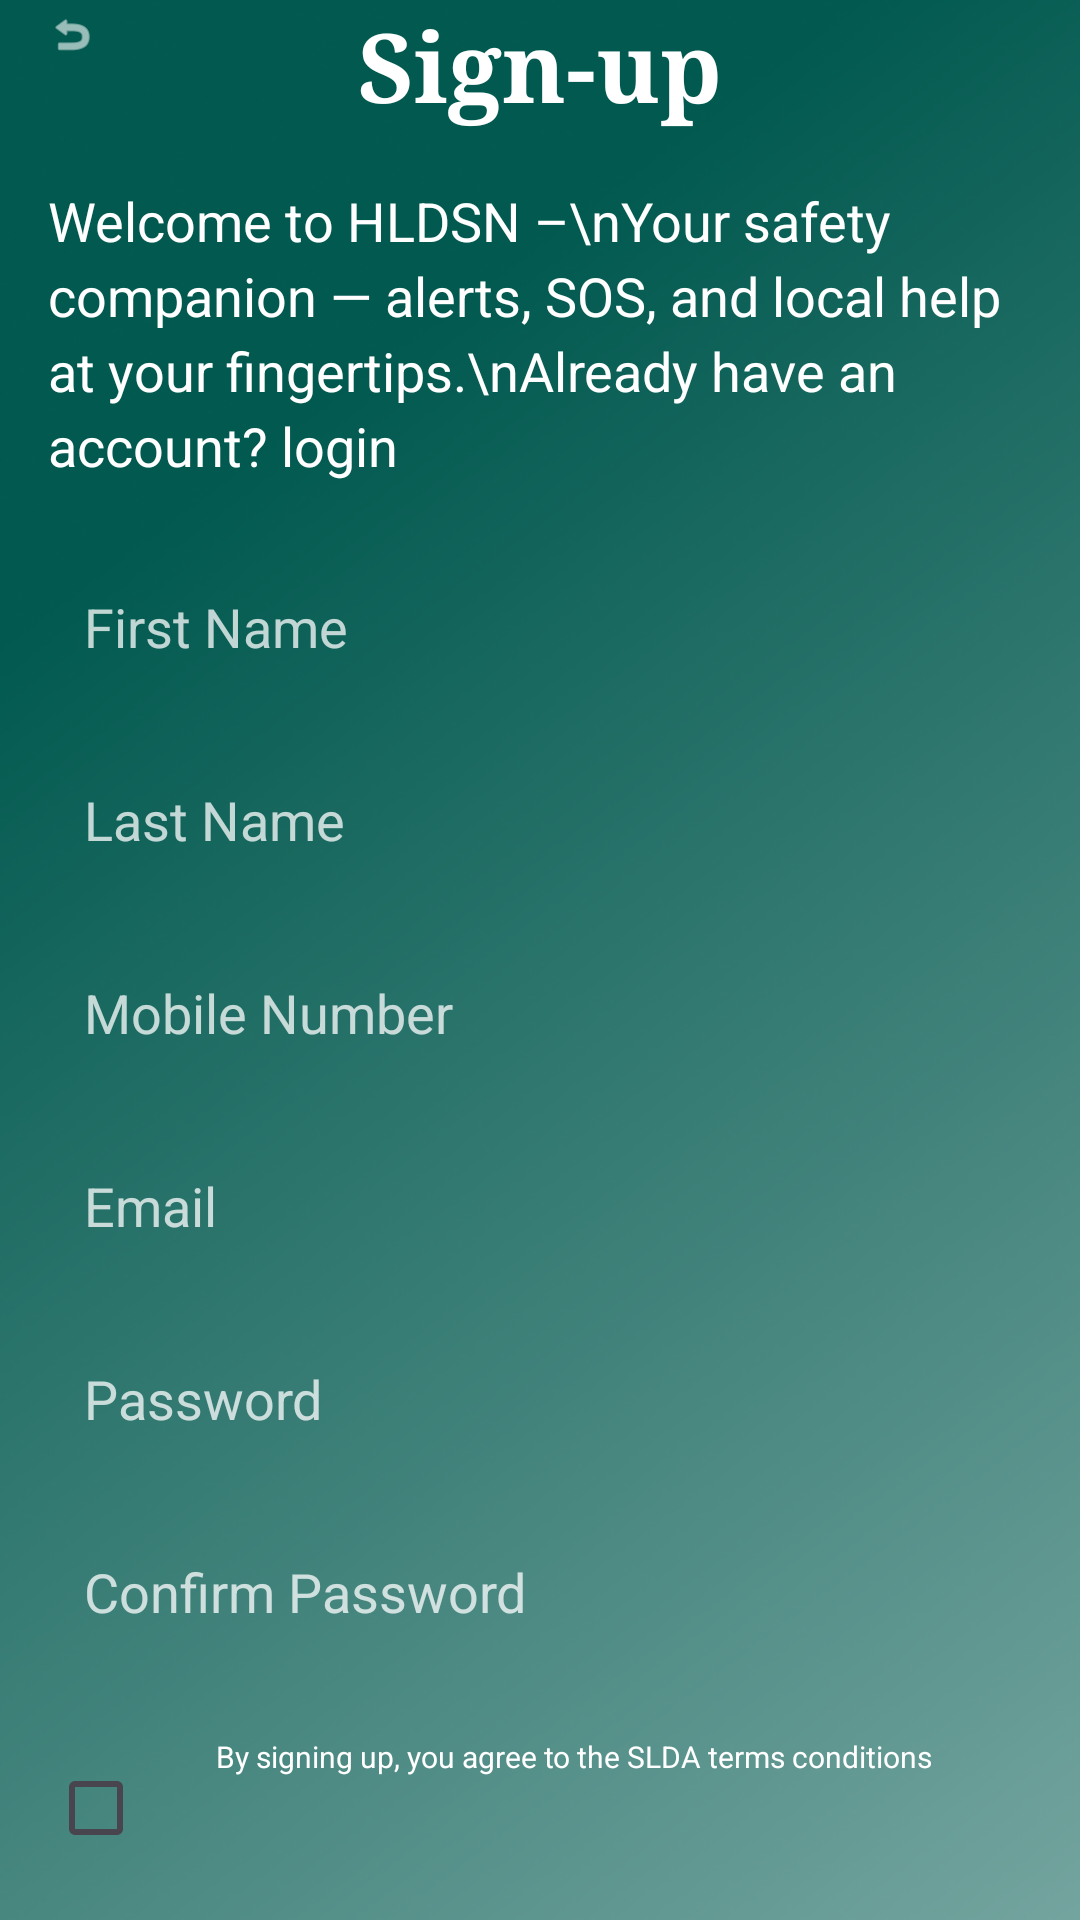

Named icons in this screenshot (1080 x 1920) and their centers, [x,y]:
revert: [72,35]
